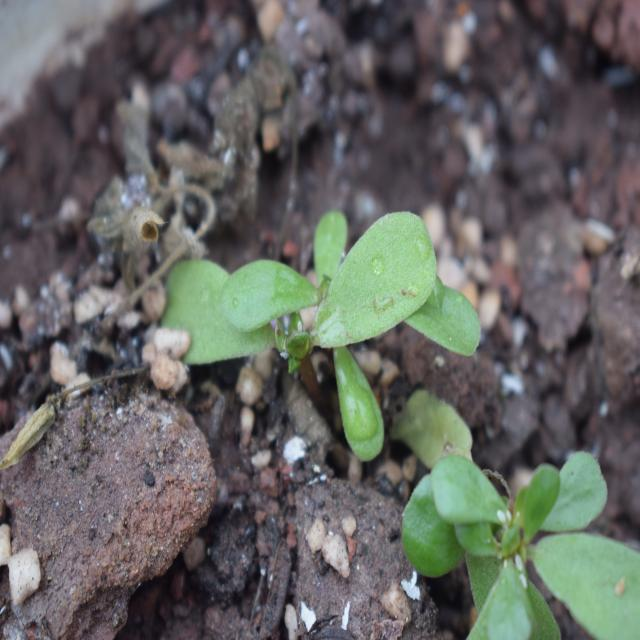purslane: (130, 205, 634, 621)
